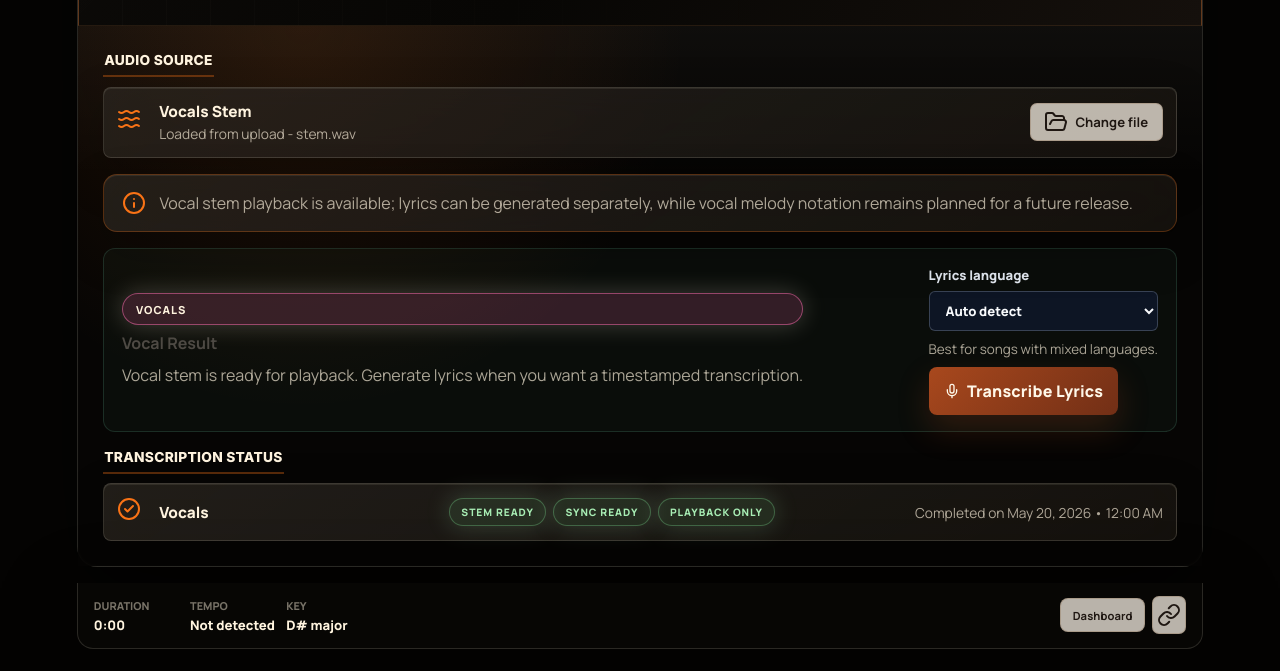
Scenario: TranscriptionViewer generate tabs polling › shows vocal lyrics generation without switching to audio processing UI
(page scrolled)
Check: the text "Best for songs with mixed languages." is shown, box 928,339 -> 1158,360
Select "Cebuano / Bisaya" in the dropdown labelled "Lyrics language" at (1043, 311), box 928,291 -> 1158,331
(page scrolled)
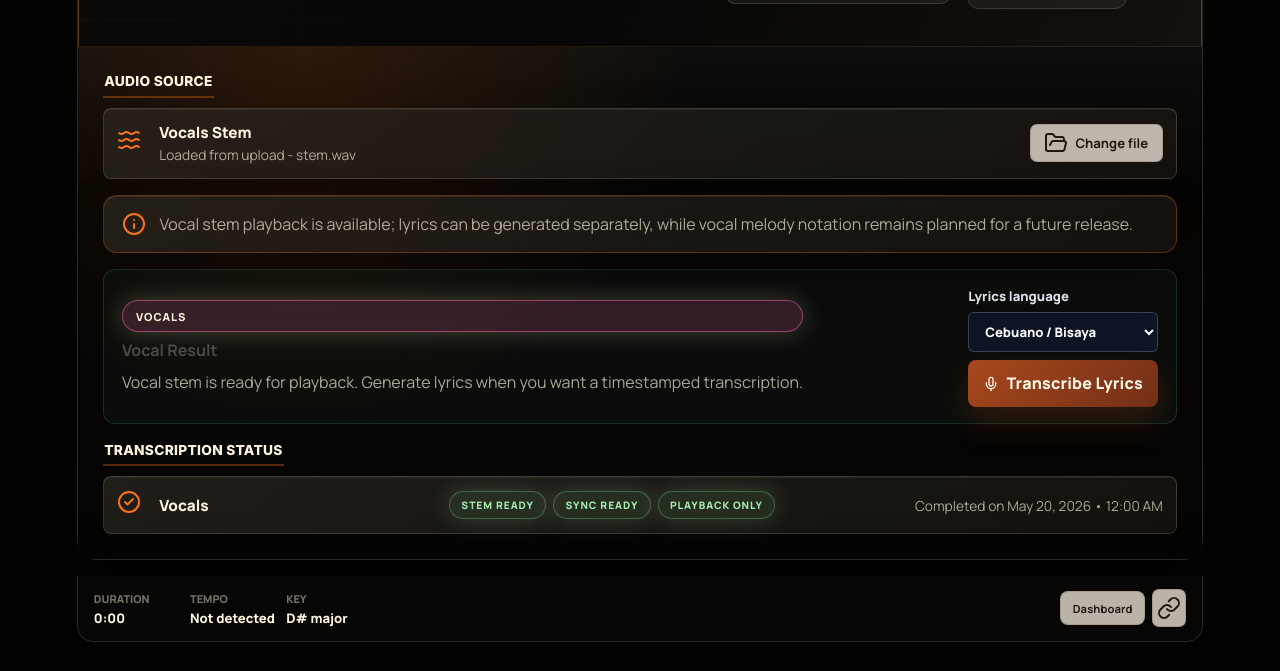
Click the button "Transcribe Lyrics".
click(1063, 384)  # box 968,360 -> 1158,408
(page scrolled)
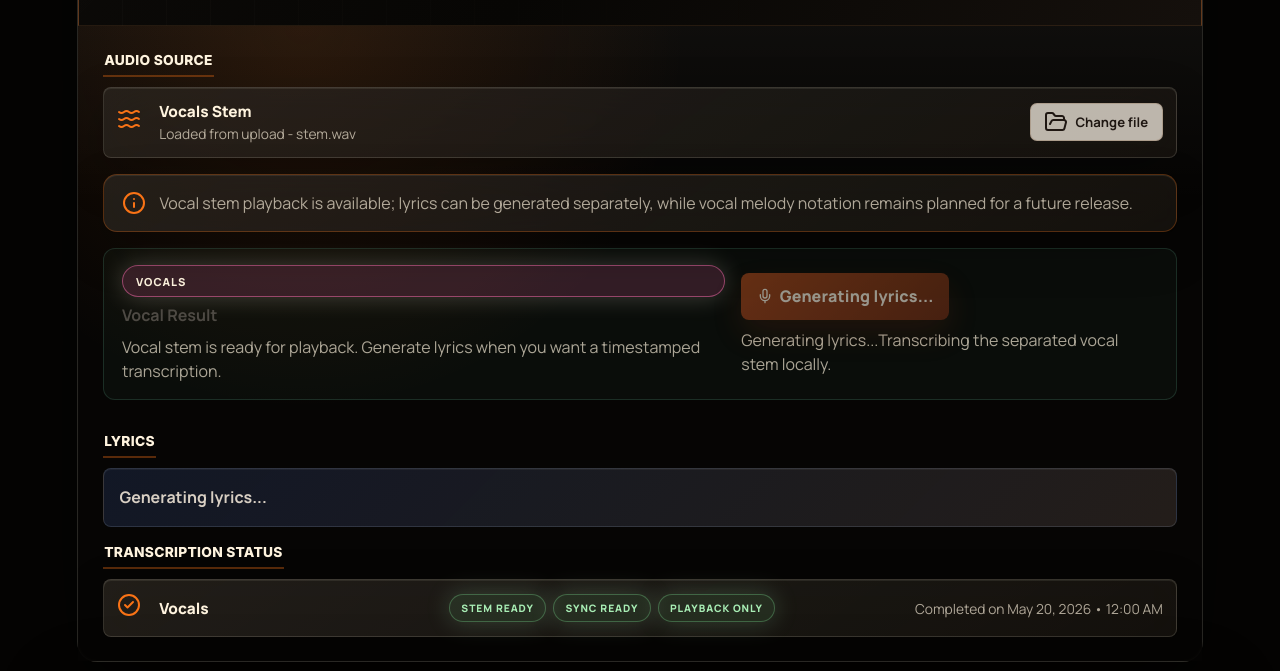
Check: the button "Generating lyrics..." is shown, box 741,272 -> 949,320
